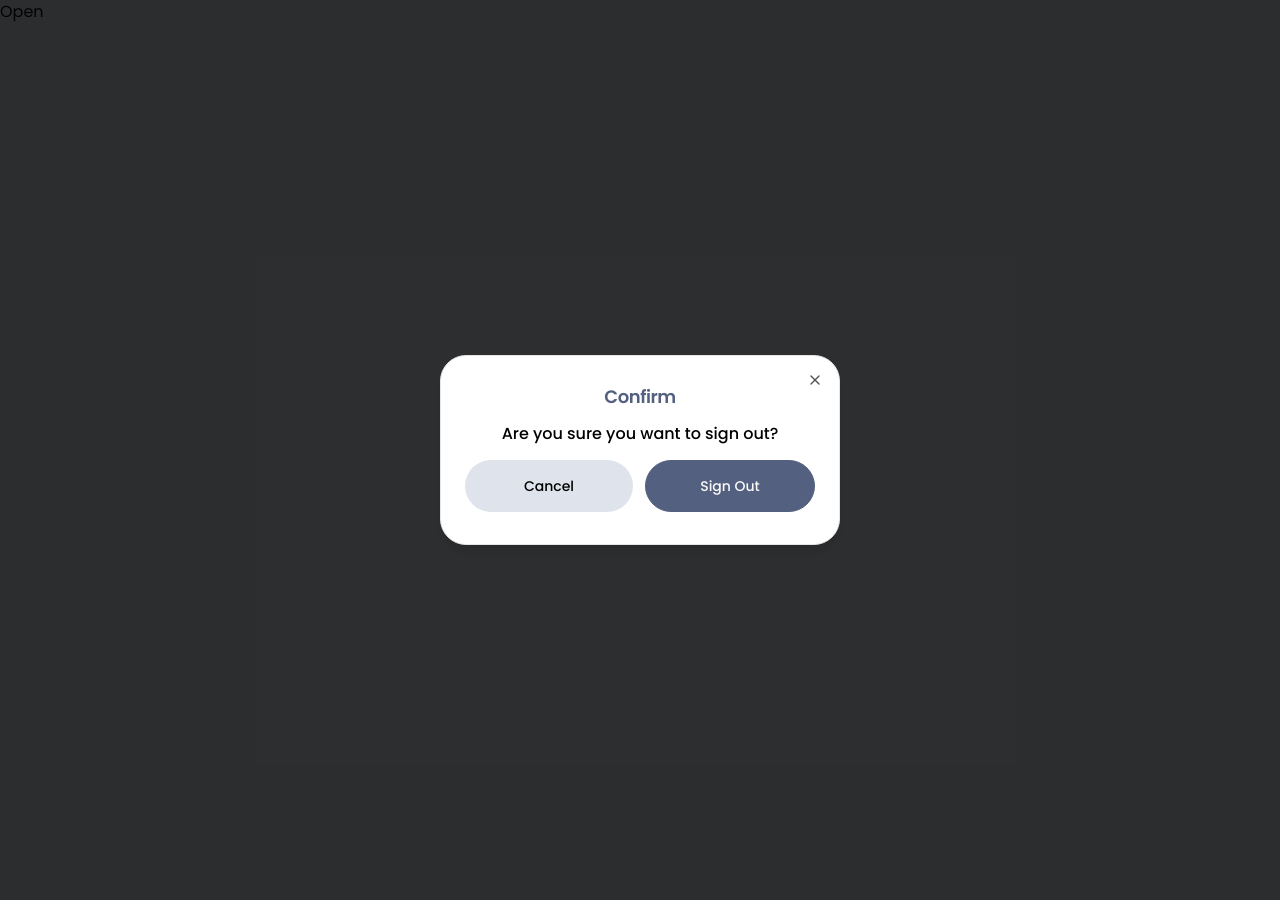
Scenario: LogoutDialog component › disables buttons while loading
Click the button with aria-label "confirm sign out" at coordinates (730, 486), box x1=645 y1=460 x2=815 y2=512
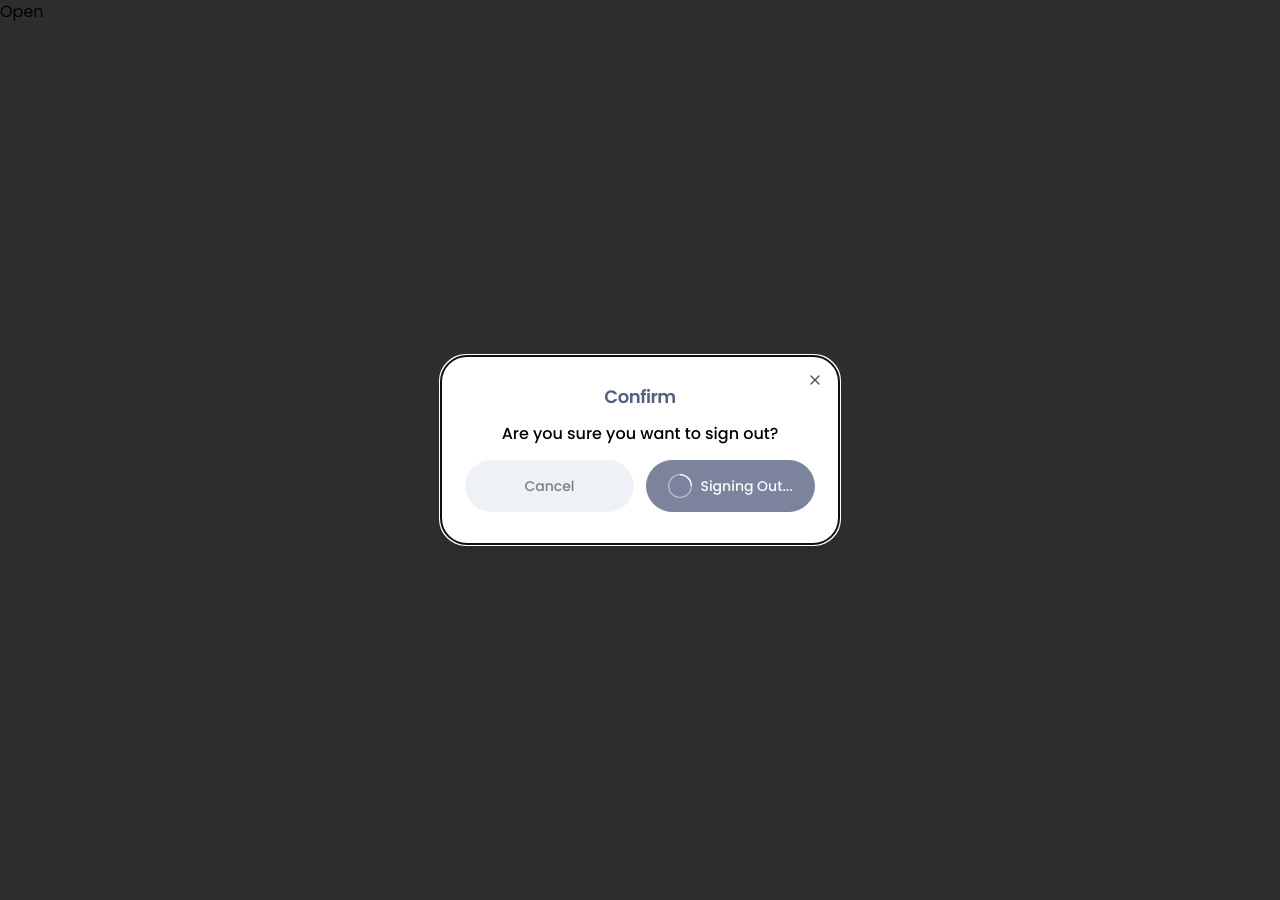
expect the button with aria-label "cancel sign out" is disabled: met, box x1=465 y1=460 x2=634 y2=512
expect the button with aria-label "confirm sign out" is disabled: met, box x1=646 y1=460 x2=815 y2=512
